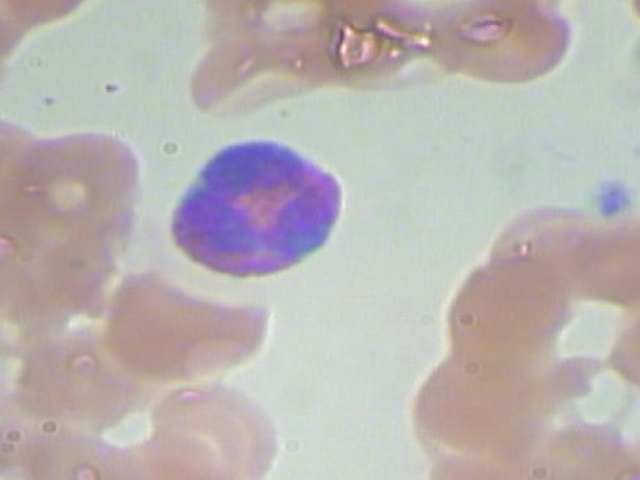Platelets: (575, 171, 638, 217)
RBC: (88, 268, 289, 385), (403, 342, 540, 464), (436, 244, 572, 366), (8, 119, 150, 235), (146, 363, 282, 480), (425, 0, 585, 93), (170, 41, 319, 116), (0, 230, 74, 352), (521, 412, 640, 480), (599, 295, 640, 408), (0, 0, 108, 30), (0, 27, 26, 143), (0, 0, 26, 92), (632, 397, 640, 480)
WBC: (158, 127, 371, 294)
